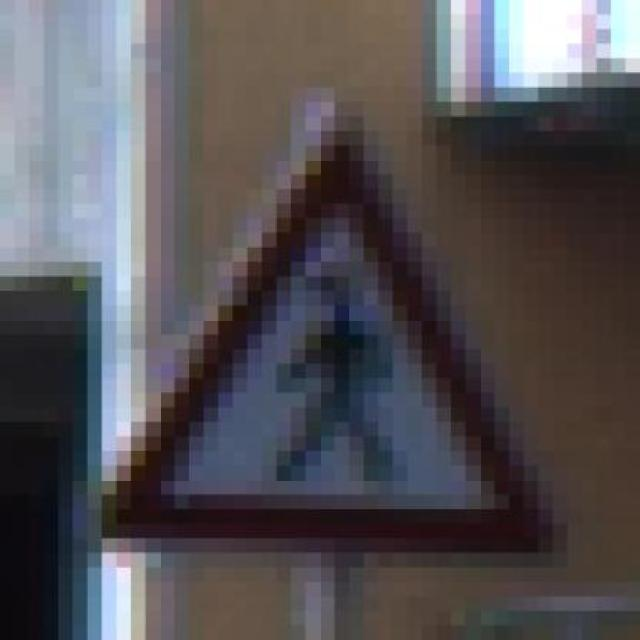Pedestrian Crossing: (87, 73, 553, 553)
